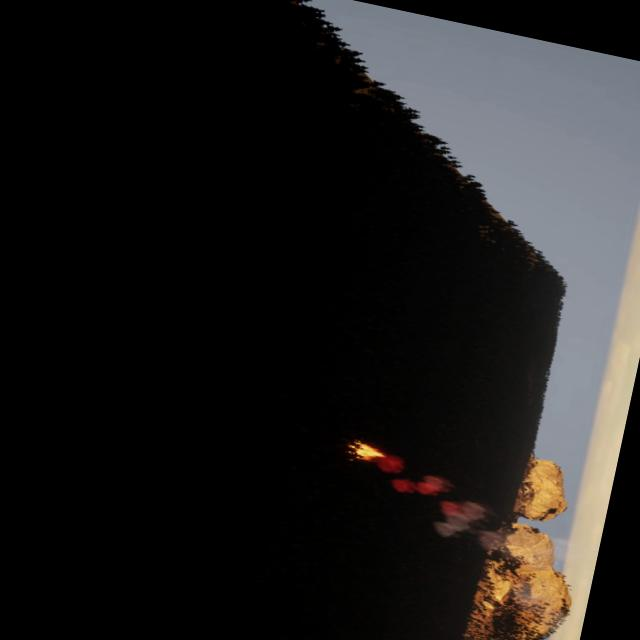fire: (347, 437, 388, 464)
smoke: (358, 453, 608, 616)
